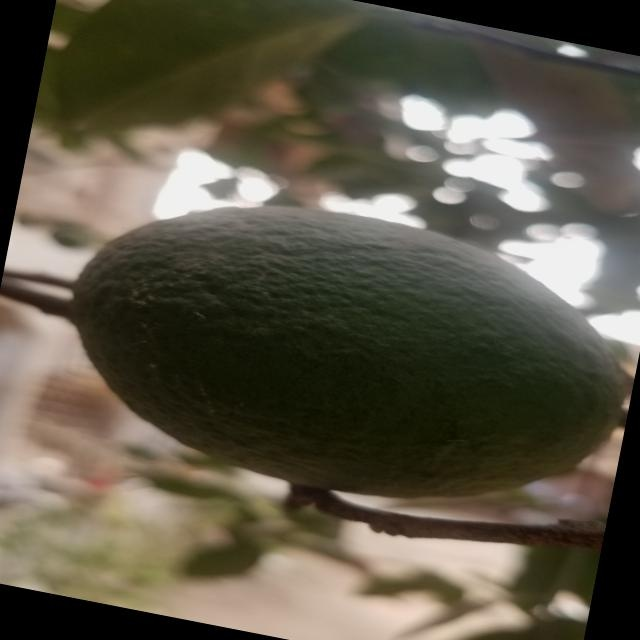agrume: (41, 168, 640, 546)
